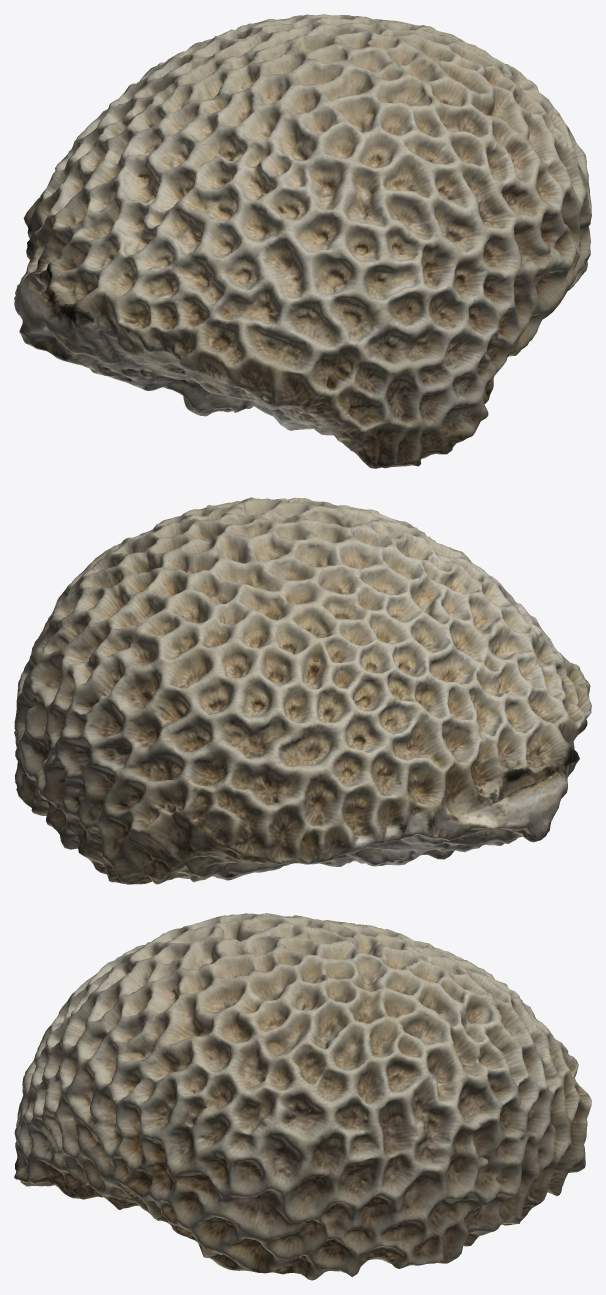
The model's file is astraea_favistella.obj.
3 renders of one model, top to bottom at view 1: azimuth 30°, elevation 25°; view 2: azimuth 150°, elevation 25°; view 3: azimuth 270°, elevation 25°, orthographic. The views are drawn at different scales.
Parts seen in each view (by area): view 1: Mesh_0; view 2: Mesh_0; view 3: Mesh_0.
Boxes of the visible parts, box(x1,y1,x2,y2) form: Mesh_0: box(14, 14, 591, 468); Mesh_0: box(14, 497, 591, 884); Mesh_0: box(14, 913, 591, 1280).
Size of the model in its own units: 0.0979 by 0.0592 by 0.1018.
